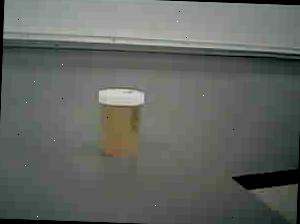Bottle B: (84, 79, 156, 165)
